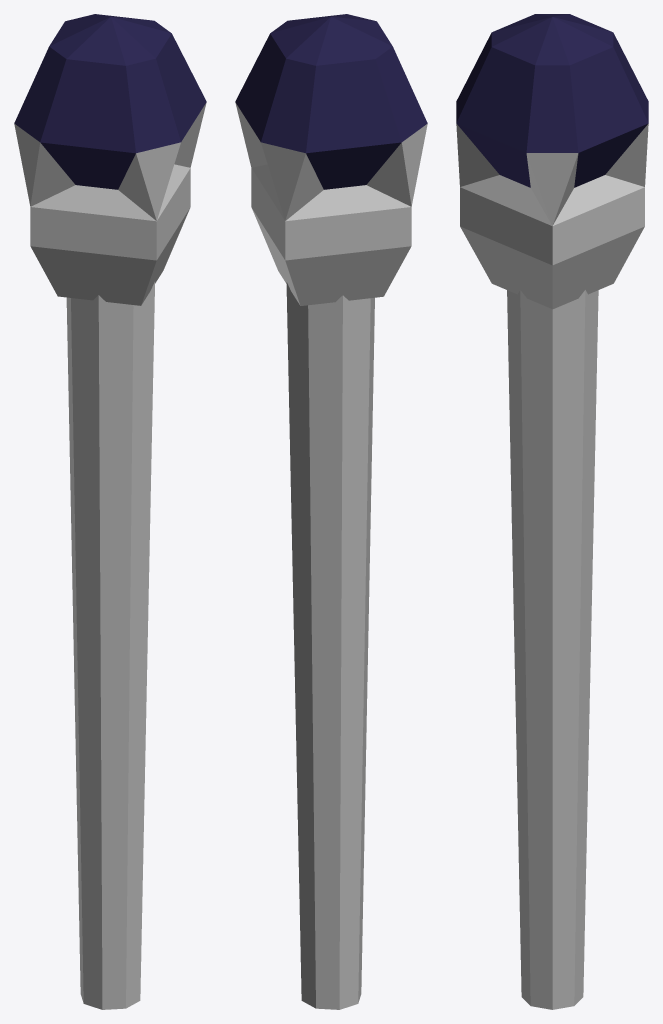
The model's file is PC_CRYSTALLIGHT_02.OBJ.
3 renders of one model, left to right at view 1: azimuth 30°, elevation 25°; view 2: azimuth 150°, elevation 25°; view 3: azimuth 270°, elevation 25°, orthographic.
Visible parts, largest first — view 1: PC_CRYSTALLIGHT_02; view 2: PC_CRYSTALLIGHT_02; view 3: PC_CRYSTALLIGHT_02.
Part boxes in pixels (x1,y1,x2,y2): PC_CRYSTALLIGHT_02: [14, 14, 206, 1009]; PC_CRYSTALLIGHT_02: [235, 14, 427, 1009]; PC_CRYSTALLIGHT_02: [456, 14, 648, 1009].
Size of the model in its own units: 0.4317 by 2.43 by 0.4317.
